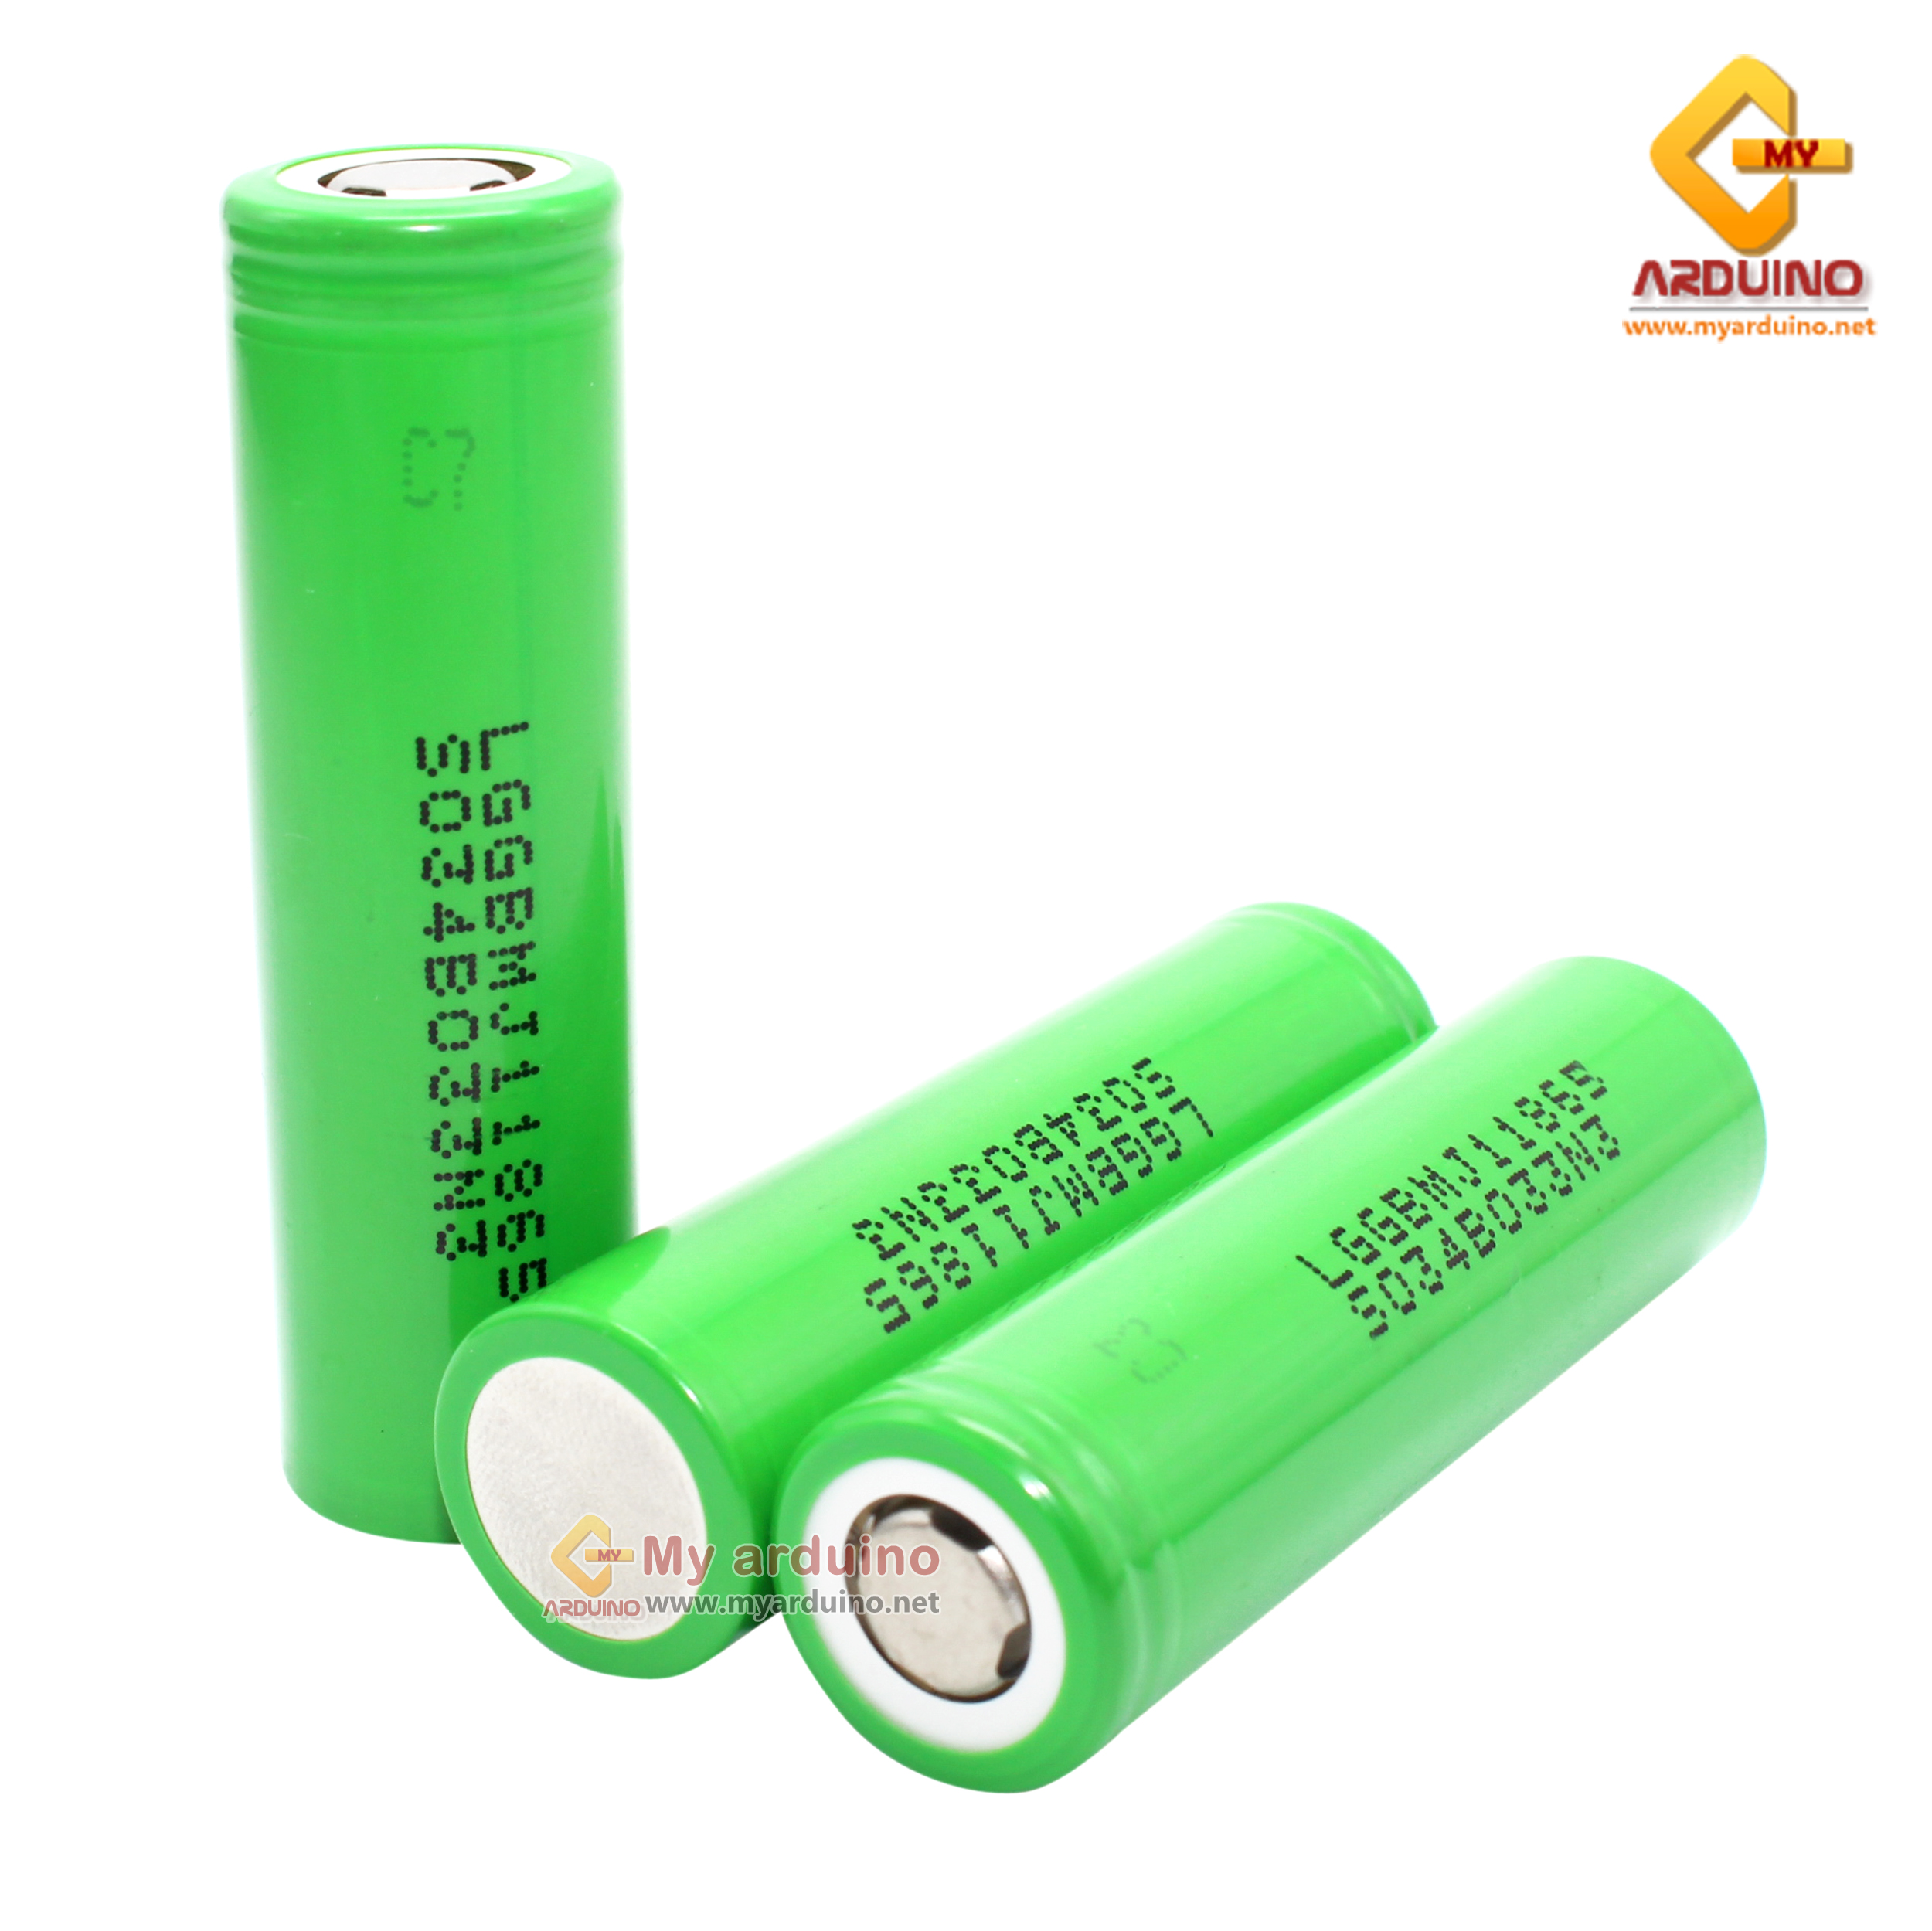Battery: (759, 941, 1776, 1807), (426, 900, 1447, 1683), (212, 136, 644, 1553)
